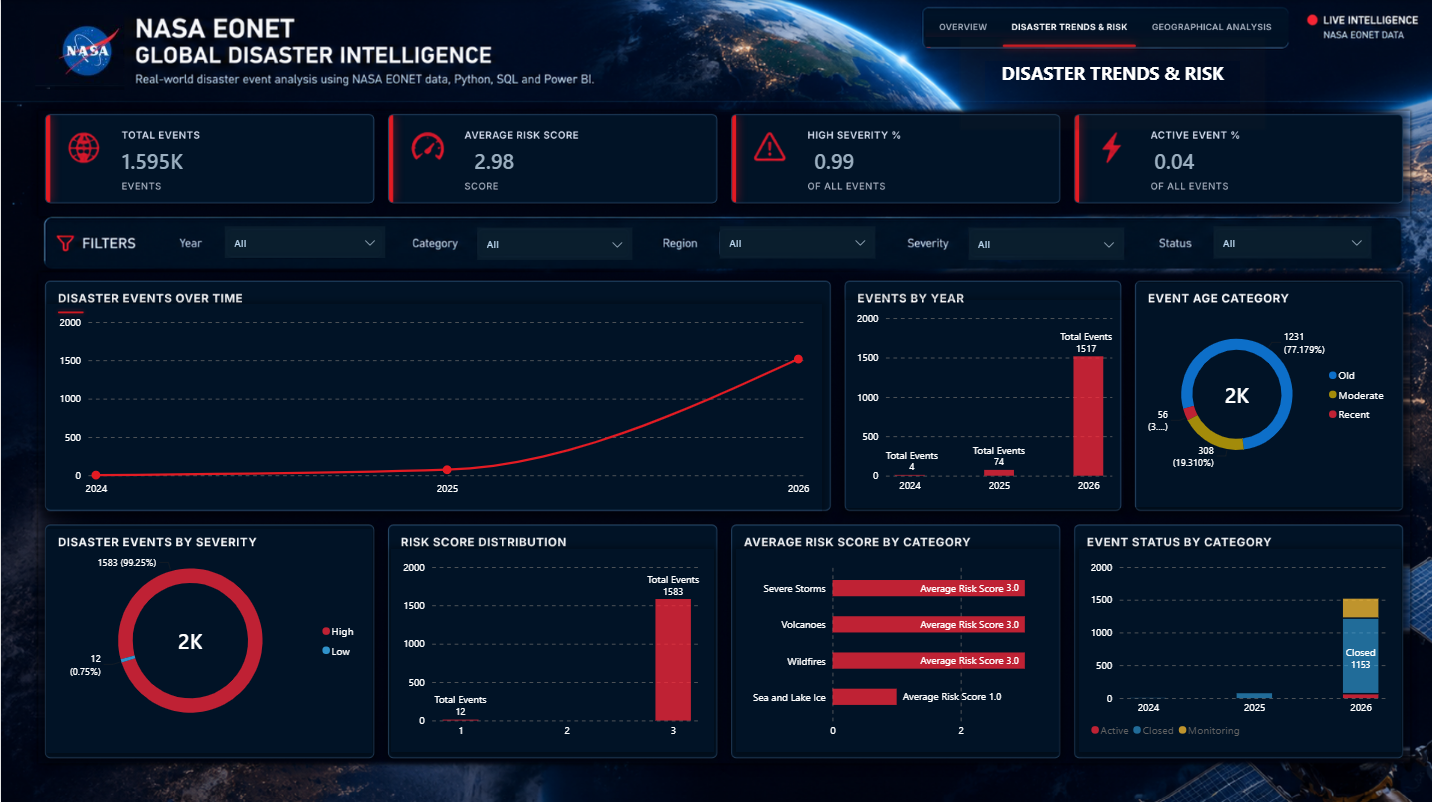

The page's visual inventory and layout, read from the dashboard file:
{"tool":"powerbi","page":{"name":"Trends & Risk","canvas":[1920,1080],"ordinal":1},"visuals":[{"type":"donutChart","title":"Severity Distribution","fields":{"Category":["disaster_events.severity"],"Y":["disaster_events.Total Events"]},"box":[61,706.4,434.3,300],"z":0,"group":"g2"},{"type":"actionButton","box":[1233.1,13.9,99.4,52.3],"z":1000,"group":"g1"},{"type":"clusteredColumnChart","title":"Disaster Events by Type Group","fields":{"Category":["disaster_events.year"],"Y":["disaster_events.Total Events"]},"box":[1126.7,401.2,373.3,277.3],"z":1000,"group":"g2"},{"type":"actionButton","box":[1343,13.9,170.9,50.6],"z":2000,"group":"g1"},{"type":"lineChart","title":"Disaster Events by Category","fields":{"Category":["disaster_events.year"],"Y":["disaster_events.Total Events"]},"box":[61,406.4,1034.3,277.3],"z":2000,"group":"g2"},{"type":"actionButton","box":[1526.1,12.2,188.4,52.3],"z":3000,"group":"g1"},{"type":"donutChart","title":"Event Status","fields":{"Category":["disaster_events.event_age_category"],"Y":["disaster_events.Total Events"]},"box":[1512.2,378.5,359.3,300],"z":3000,"group":"g2"},{"type":"image","box":[41.7,20,126.9,100.2],"z":4000,"group":"g2"},{"type":"cardVisual","fields":{"Data":["Count(disaster_events.event_id)"]},"box":[144.7,172.7,191.9,85.5],"z":5000,"group":"g2"},{"type":"cardVisual","fields":{"Data":["disaster_events.High Severity Percentage"]},"box":[1070.9,172.7,191.9,85.5],"z":6000,"group":"g2"},{"type":"cardVisual","fields":{"Data":["disaster_events.Average Risk Score"]},"box":[615.7,172.7,191.9,85.5],"z":7000,"group":"g2"},{"type":"cardVisual","fields":{"Data":["disaster_events.Active Event Percentage"]},"box":[1524.4,172.7,191.9,85.5],"z":8000,"group":"g2"},{"type":"slicer","fields":{"Values":["disaster_events.year"]},"box":[298.2,303.5,214.2,42.5],"z":9000,"group":"g2"},{"type":"slicer","fields":{"Values":["disaster_events.category"]},"box":[635.4,304.4,207.1,43.4],"z":10000,"group":"g2"},{"type":"slicer","fields":{"Values":["disaster_events.region"]},"box":[960.1,303.5,208,43.4],"z":11000,"group":"g2"},{"type":"slicer","fields":{"Values":["disaster_events.severity"]},"box":[1292,304.4,208,43.4],"z":12000,"group":"g2"},{"type":"slicer","fields":{"Values":["disaster_events.status"]},"box":[1619.4,303.5,211.5,43.4],"z":13000,"group":"g2"},{"type":"clusteredColumnChart","title":"Disaster Events by Type Group","fields":{"Category":["disaster_events.risk_score"],"Y":["disaster_events.Total Events"]},"box":[521.5,734.3,430.8,272.1],"z":14000,"group":"g2"},{"type":"clusteredBarChart","title":"Disaster Events by Type Group","fields":{"Category":["disaster_events.category"],"Y":["disaster_events.Average Risk Score"]},"box":[981.9,734.3,430.8,272.1],"z":15000,"group":"g2"},{"type":"columnChart","title":"Disaster Events by Type Group","fields":{"Category":["disaster_events.year"],"Series":["disaster_events.status"],"Y":["disaster_events.Total Events"]},"box":[1438.9,734.3,430.8,272.1],"z":16000,"group":"g2"},{"type":"group","id":"g1","title":"Buttons2","box":[1233.1,12.2,481.4,54.1],"z":17000,"group":"g2"},{"type":"group","id":"g2","title":"Trends & Risk","box":[41.7,12.2,1829.8,994.2],"z":17001},{"type":"textbox","box":[1313.4,82,341.9,57.6],"z":17002}]}

Visuals, with their boxes in screenshot pixels (x1, y1, x2, y2), scaled from the page's 1920x1080 canvas onto the 1432x802 screenshot:
"Severity Distribution" donutChart: (45,525,369,747)
actionButton: (920,10,994,49)
"Disaster Events by Type Group" clusteredColumnChart: (840,298,1119,504)
actionButton: (1002,10,1129,48)
"Disaster Events by Category" lineChart: (45,302,817,508)
actionButton: (1138,9,1279,48)
"Event Status" donutChart: (1128,281,1396,504)
image: (31,15,126,89)
cardVisual - Count(disaster_events.event_id): (108,128,251,192)
cardVisual - disaster_events.High Severity Percentage: (799,128,942,192)
cardVisual - disaster_events.Average Risk Score: (459,128,602,192)
cardVisual - disaster_events.Active Event Percentage: (1137,128,1280,192)
slicer - disaster_events.year: (222,225,382,257)
slicer - disaster_events.category: (474,226,628,258)
slicer - disaster_events.region: (716,225,871,258)
slicer - disaster_events.severity: (964,226,1119,258)
slicer - disaster_events.status: (1208,225,1366,258)
"Disaster Events by Type Group" clusteredColumnChart: (389,545,710,747)
"Disaster Events by Type Group" clusteredBarChart: (732,545,1054,747)
"Disaster Events by Type Group" columnChart: (1073,545,1394,747)
"Buttons2" group: (920,9,1279,49)
"Trends & Risk" group: (31,9,1396,747)
textbox: (980,61,1235,104)
